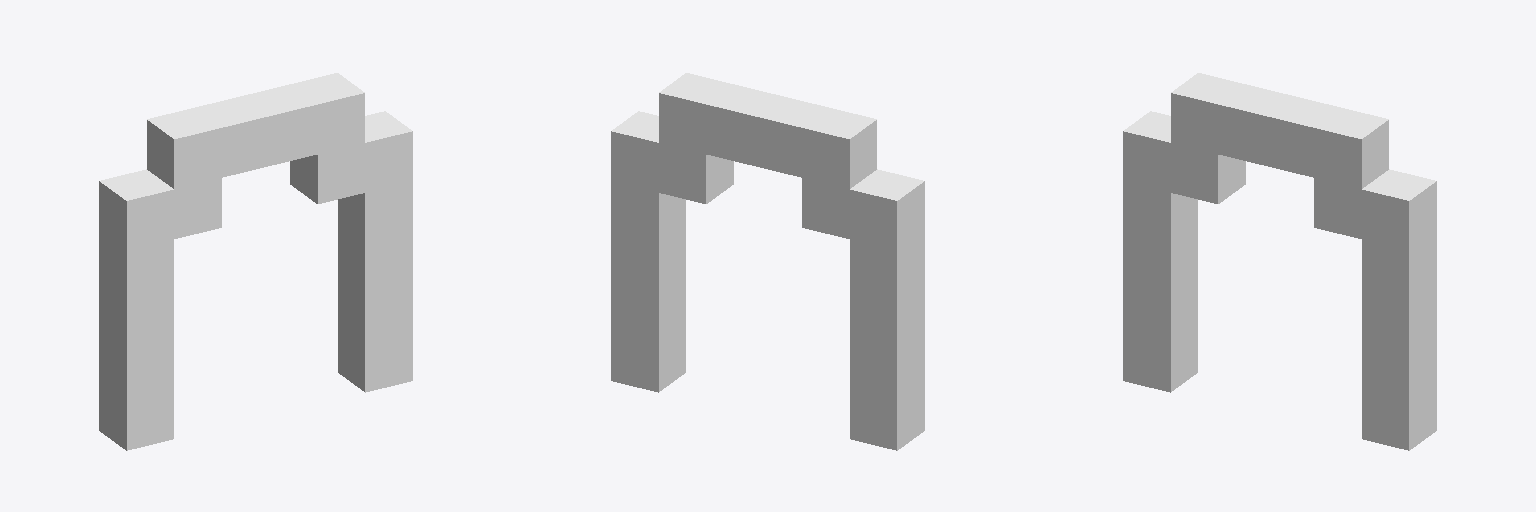
File: mouth3.obj
3 views of the same model, side by side, from view 1: azimuth 30°, elevation 25°; view 2: azimuth 150°, elevation 25°; view 3: azimuth 330°, elevation 25° (orthographic).
Parts seen in each view (by area): view 1: object 1; view 2: object 1; view 3: object 1.
Boxes of the visible parts, x1=… form: object 1: x1=99, y1=73, x2=412, y2=450; object 1: x1=611, y1=73, x2=924, y2=450; object 1: x1=1123, y1=73, x2=1436, y2=450.
Size of the model in its own units: 0.6 by 0.6 by 0.1.